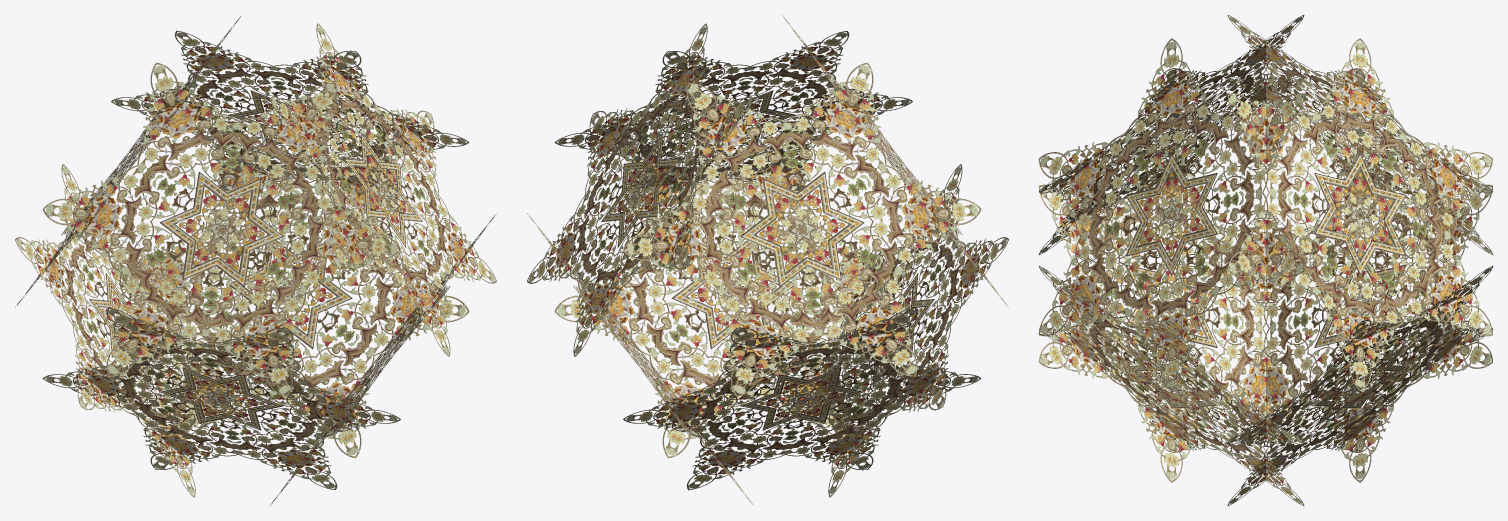
File: CubitruncatedCuboctahedron9.gltf
3 views of the same model, side by side, from view 1: azimuth 30°, elevation 25°; view 2: azimuth 150°, elevation 25°; view 3: azimuth 270°, elevation 25° (orthographic).
Parts seen in each view (by area): view 1: CubitruncatedCuboctahedron; view 2: CubitruncatedCuboctahedron; view 3: CubitruncatedCuboctahedron.
Part boxes in pixels (left/top/right/bottom): CubitruncatedCuboctahedron: left=15, top=16, right=496, bottom=505; CubitruncatedCuboctahedron: left=527, top=15, right=1008, bottom=504; CubitruncatedCuboctahedron: left=1038, top=15, right=1493, bottom=505.
Size of the model in its own units: 2.41 by 2.41 by 2.41.
Materials: 1 (1 with a texture image).
